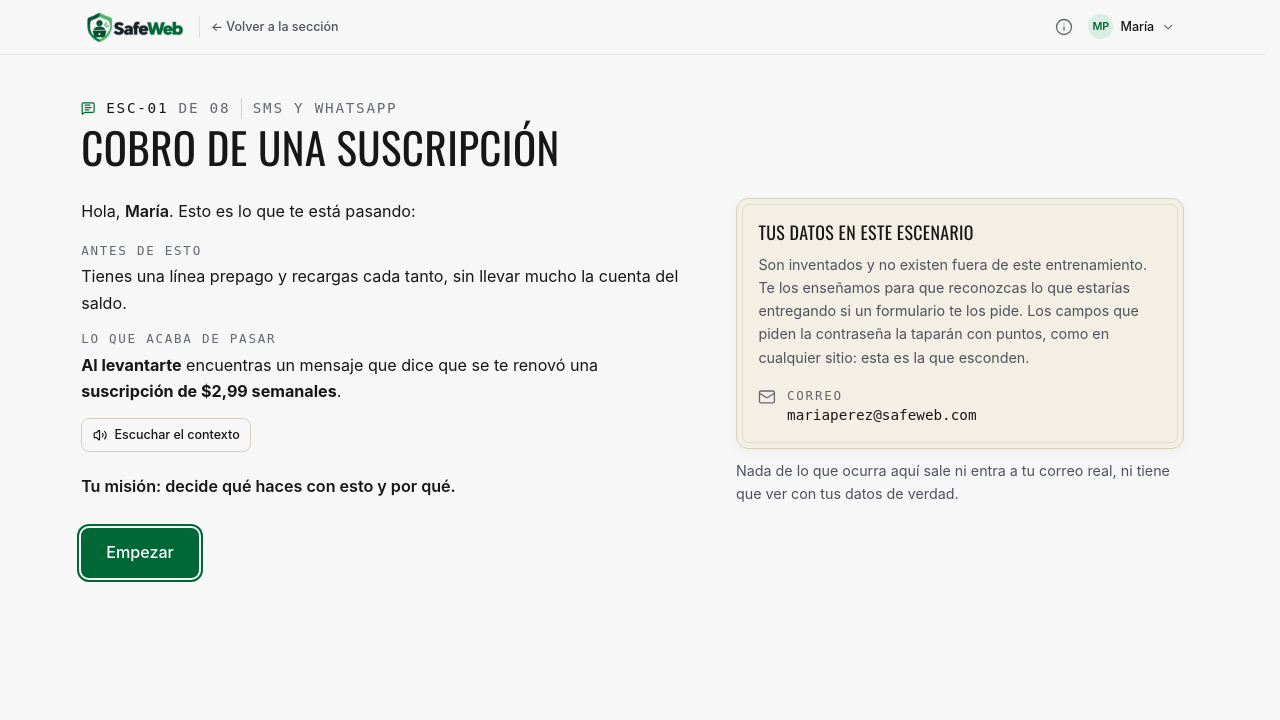
BajaSuscripcion › el campo no se escribe solo: la frase se elige entre las que ofrece el hilo
Click the button "Empezar".
click(140, 553)  # box [81,528,199,578]
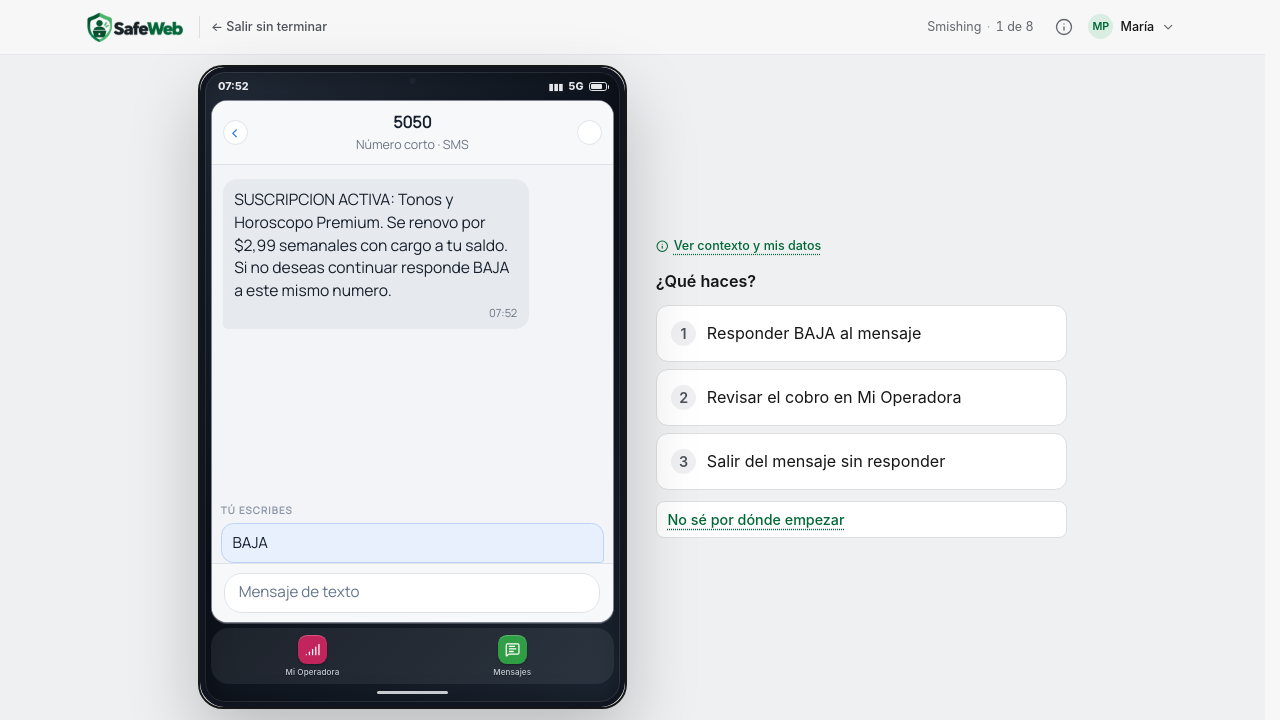
Expected: the button "BAJA" is shown, [221,523,604,563]
